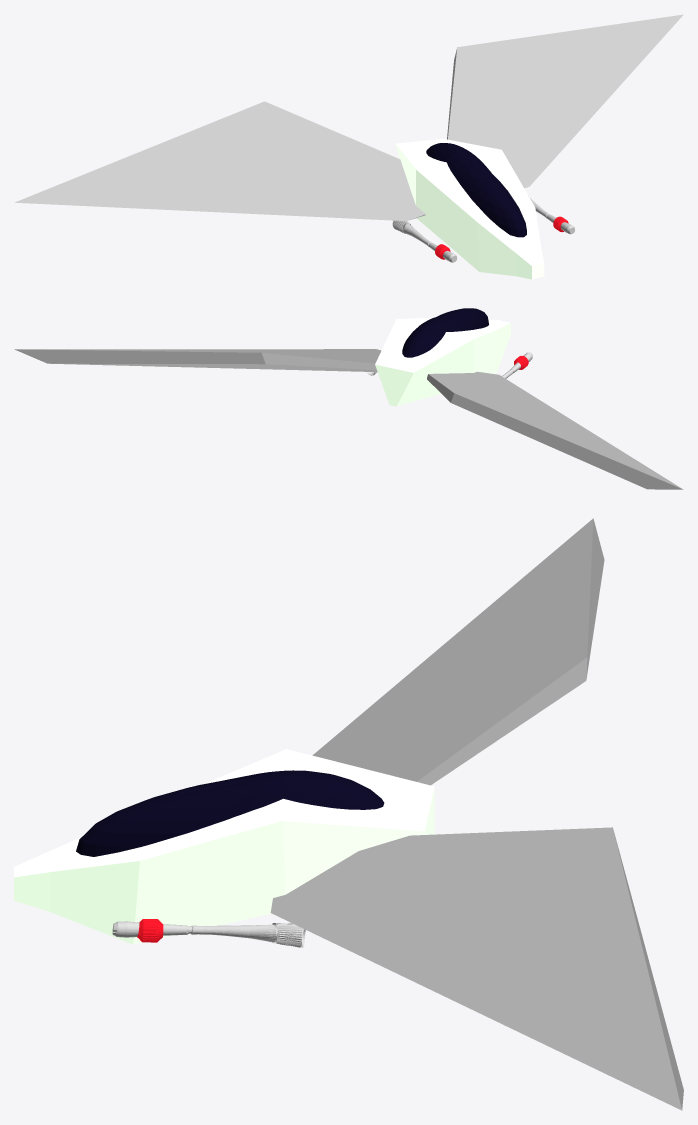
The model's file is ship1mod.fbx.
3 renders of one model, top to bottom at view 1: azimuth 30°, elevation 25°; view 2: azimuth 150°, elevation 25°; view 3: azimuth 270°, elevation 25°, orthographic. The views are drawn at different scales.
Visible parts, largest first — view 1: Cube, Base, cockpit, Weapon_left; view 2: Cube, Base, cockpit; view 3: Cube, Base, cockpit, Weapon.
Part boxes in pixels (bbox=[...]): Cube: bbox=[15, 14, 683, 221]; Base: bbox=[395, 138, 544, 279]; cockpit: bbox=[426, 143, 526, 237]; Weapon_left: bbox=[392, 220, 457, 262]; Cube: bbox=[14, 349, 683, 489]; Base: bbox=[375, 317, 510, 406]; cockpit: bbox=[402, 308, 488, 357]; Cube: bbox=[270, 518, 683, 1110]; Base: bbox=[14, 749, 434, 944]; cockpit: bbox=[76, 770, 384, 856]; Weapon: bbox=[112, 921, 305, 947].
Size of the model in its own units: 1071 by 142 by 512.
